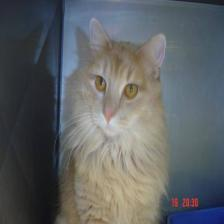cat: (74, 10, 171, 147)
